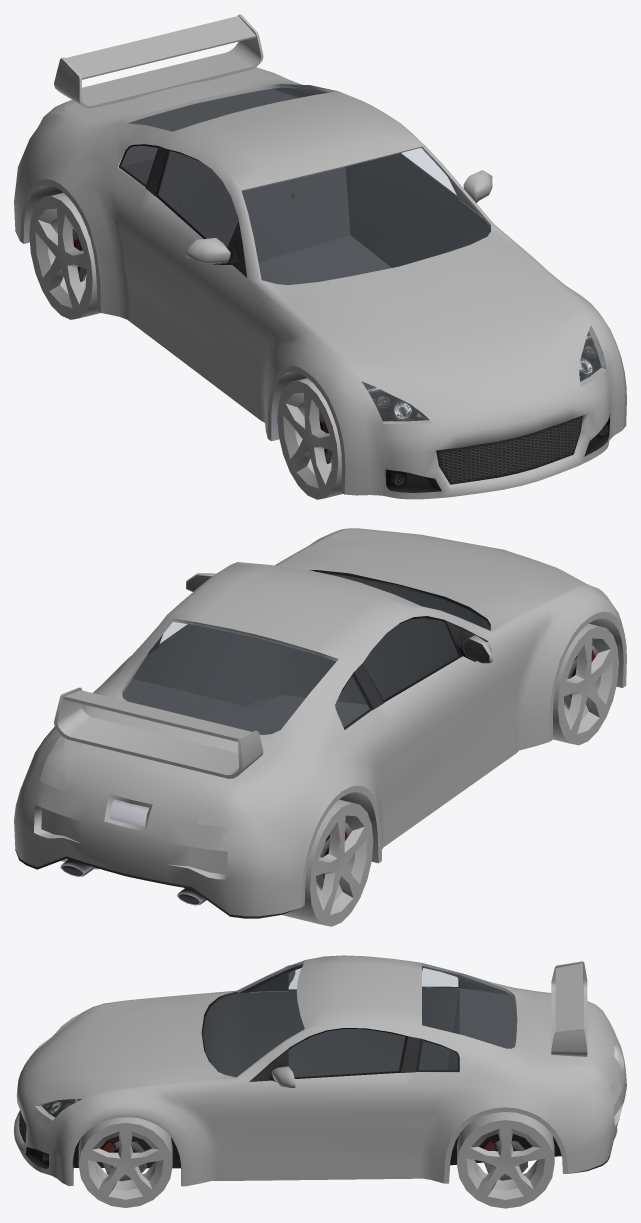
Rendered from Car_7.FBX.
3 renders of one model, top to bottom at view 1: azimuth 30°, elevation 25°; view 2: azimuth 150°, elevation 25°; view 3: azimuth 270°, elevation 25°, orthographic. The views are drawn at different scales.
Visible parts, largest first — view 1: Body_7, Matte_7, Glass_7, Wheel_Back, Wheel_R; view 2: Body_7, Matte_7, Glass_7, Wheel_Back, Wheel_R, Taillights_7; view 3: Body_7, Matte_7, Glass_7, Wheel_Back, Wheel_L, Taillights_7.
Part boxes in pixels (x1,y1,x2,y2): Body_7: (14,14,626,499); Matte_7: (15,87,610,492); Glass_7: (122,86,605,422); Wheel_Back: (29,193,100,319); Wheel_R: (277,378,343,499); Body_7: (14,528,626,916); Matte_7: (15,570,623,918); Glass_7: (122,573,489,734); Wheel_Back: (61,799,373,926); Wheel_R: (553,623,618,745); Taillights_7: (39,736,263,827); Body_7: (14,955,626,1186); Matte_7: (19,964,620,1182); Glass_7: (38,962,515,1119); Wheel_Back: (457,1112,554,1208); Wheel_L: (78,1117,172,1207); Taillights_7: (562,1001,613,1089).
Size of the model in its own units: 1.95 by 1.36 by 4.4.
